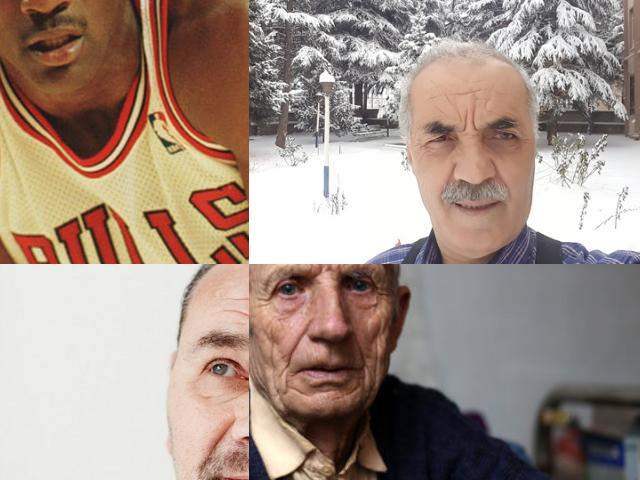chin: (278, 378, 308, 402), (333, 384, 357, 402)
crows_feet: (372, 275, 388, 306), (256, 286, 272, 310), (414, 138, 428, 154), (518, 133, 532, 149)
forehead: (228, 302, 249, 328), (450, 83, 478, 99), (430, 88, 452, 104)
frown_line: (460, 112, 480, 140), (313, 264, 336, 280)
gummy_smile: (282, 328, 308, 364), (208, 416, 230, 456), (350, 333, 366, 363), (443, 158, 457, 190), (490, 159, 504, 181)
masseter: (249, 351, 263, 388), (371, 340, 381, 374)
